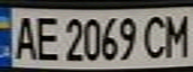0: (81, 15, 103, 62)
2: (60, 14, 84, 63)
6: (100, 14, 121, 62)
9: (115, 12, 142, 62)
A: (9, 12, 39, 61)
C: (139, 12, 172, 61)
E: (30, 12, 60, 62)
M: (163, 11, 193, 58)
